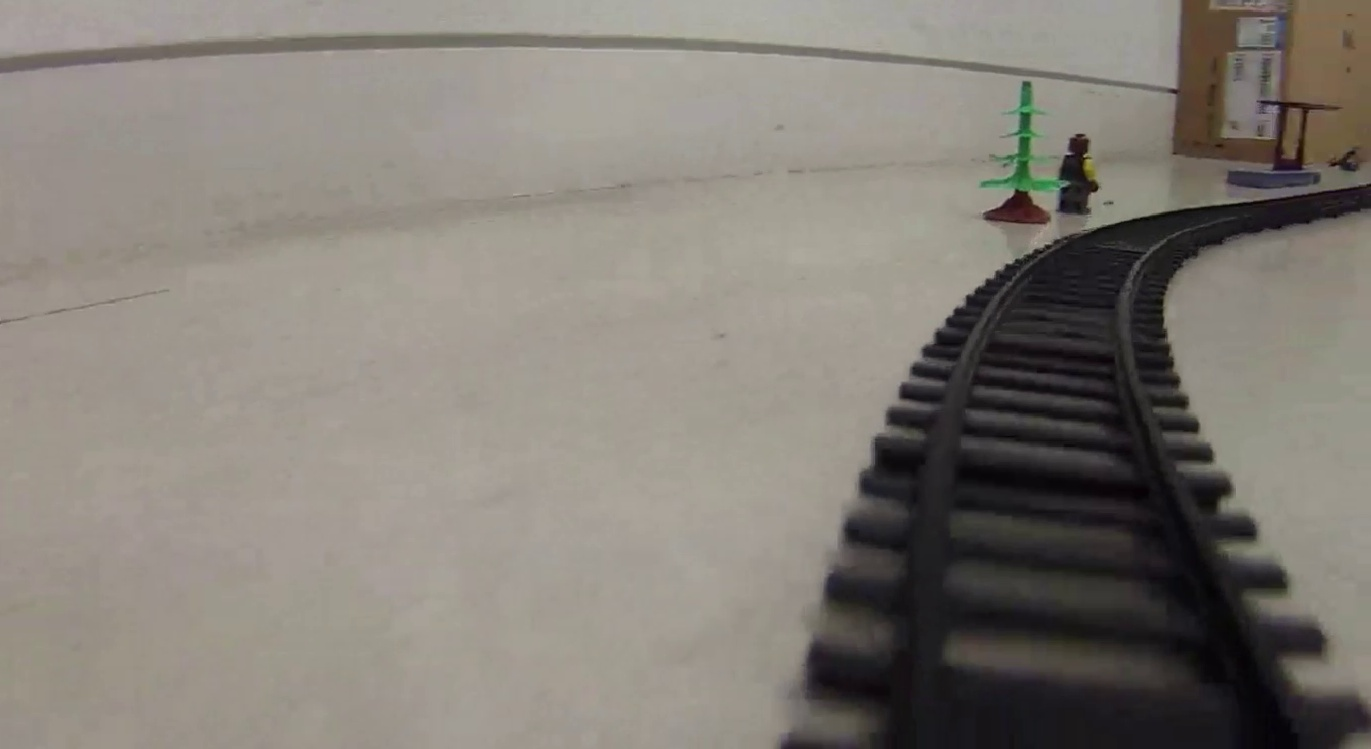people: (1057, 133, 1101, 216)
tree: (978, 78, 1061, 226)
